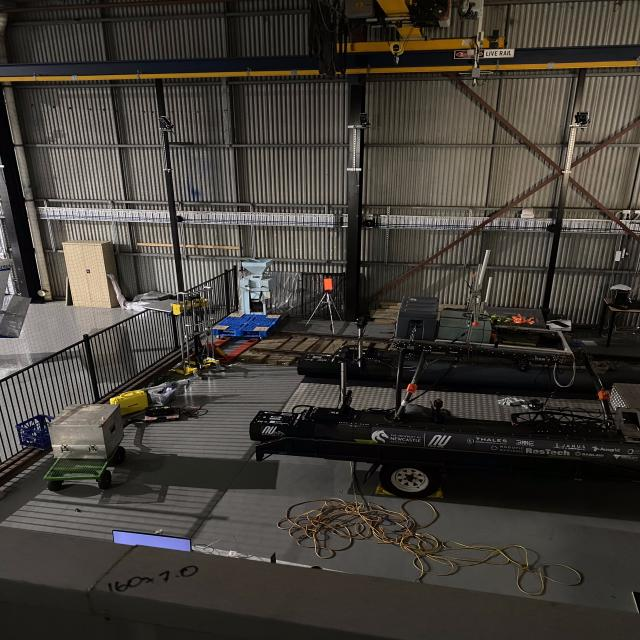matrix: (323, 278, 334, 290)
